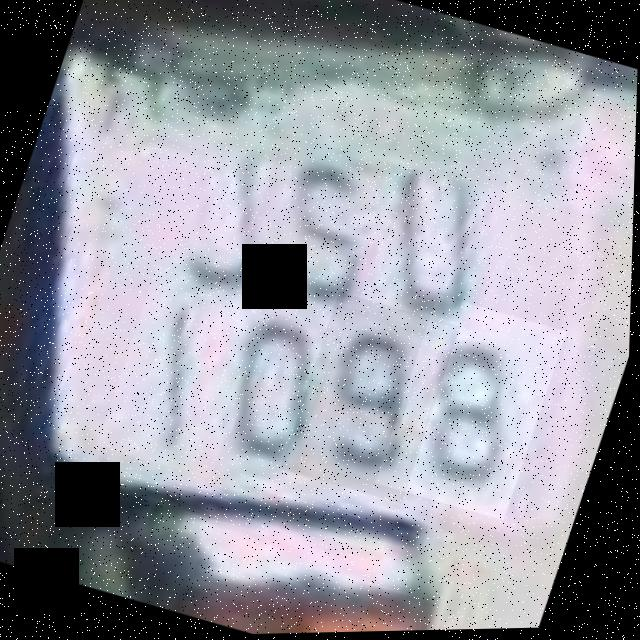0: (175, 272, 369, 493)
1: (98, 263, 273, 481)
8: (377, 294, 569, 525)
9: (282, 291, 463, 507)
S: (235, 131, 418, 321)
U: (343, 143, 535, 349)
